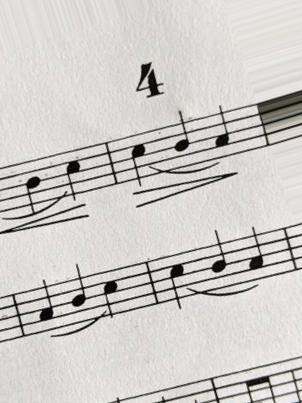A: (30, 277, 62, 336), (207, 101, 237, 160), (239, 226, 269, 283)
B: (202, 226, 232, 287), (19, 157, 49, 215), (65, 261, 92, 322), (168, 110, 195, 168)
HC: (163, 255, 192, 312), (58, 149, 89, 202), (124, 132, 152, 186), (98, 268, 123, 322)
